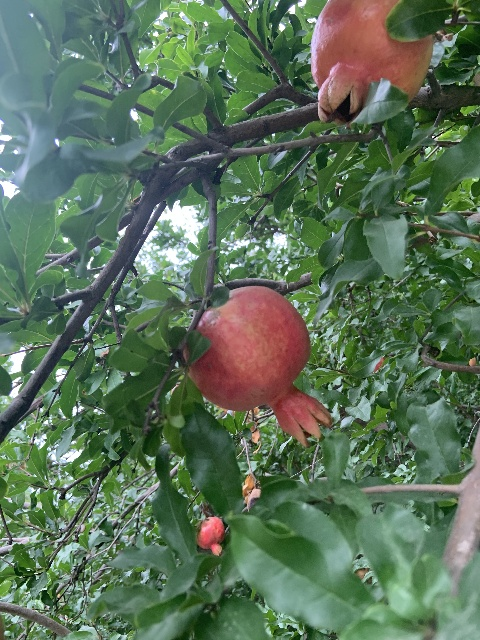ripe: (186, 285, 332, 447), (310, 0, 433, 126), (196, 516, 225, 555)
